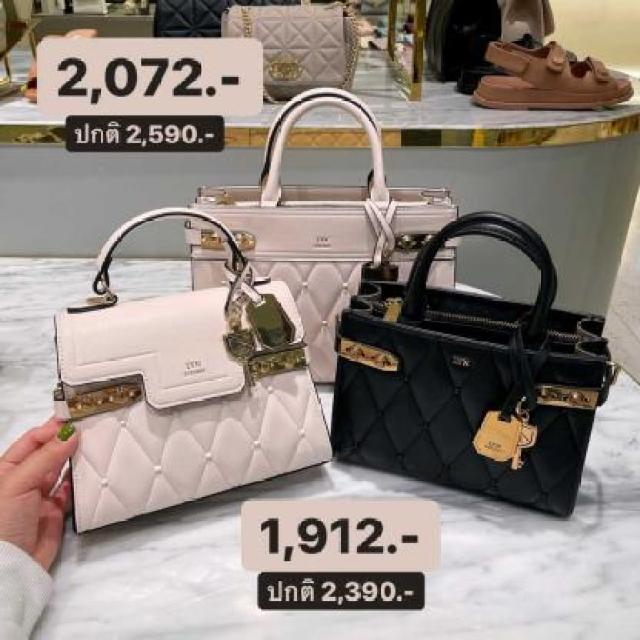Bag: (5, 132, 372, 588), (312, 172, 626, 563)
